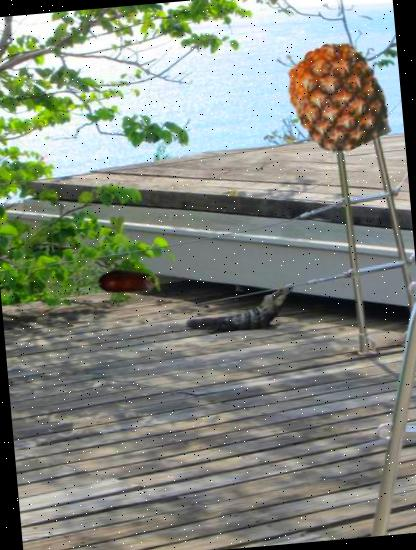Eggplant: (94, 246, 166, 318)
Pineapple: (280, 40, 396, 156)
